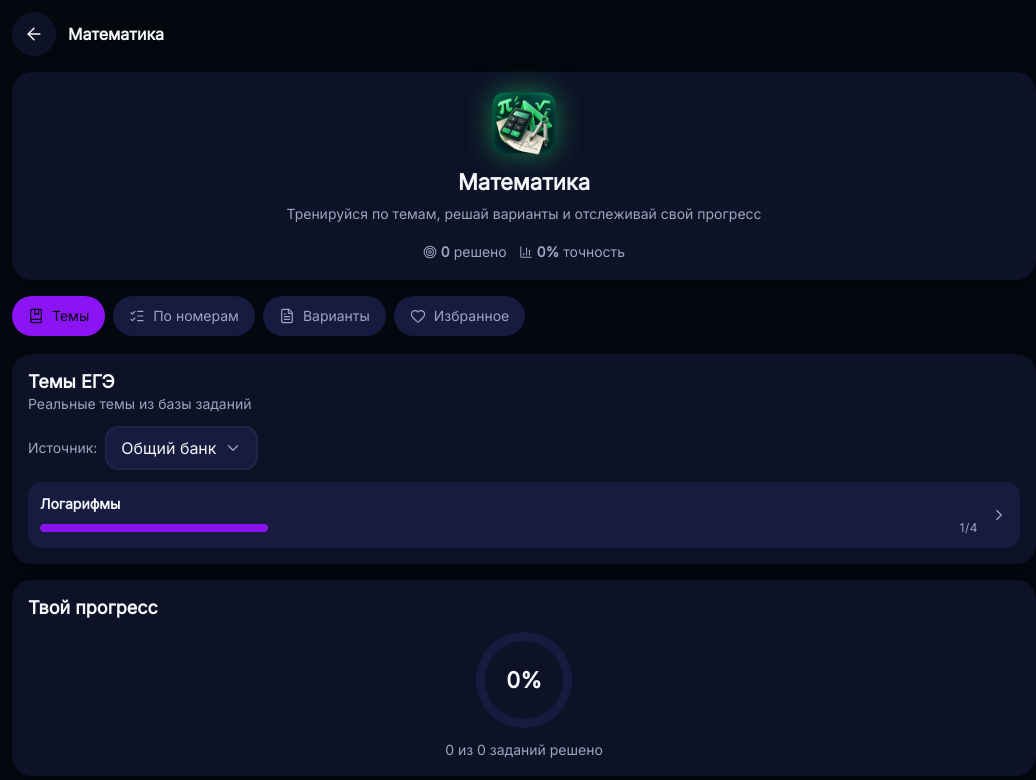
Test case: SubjectMobile › starting a topic training session passes the real topicId and navigates to the task overlay
This screenshot has width=1036, height=780.
What coordinates should you click on to do the following:
click the text "Логарифмы"
I would click on:
 (80, 504)
Its box is [40,495,120,512].
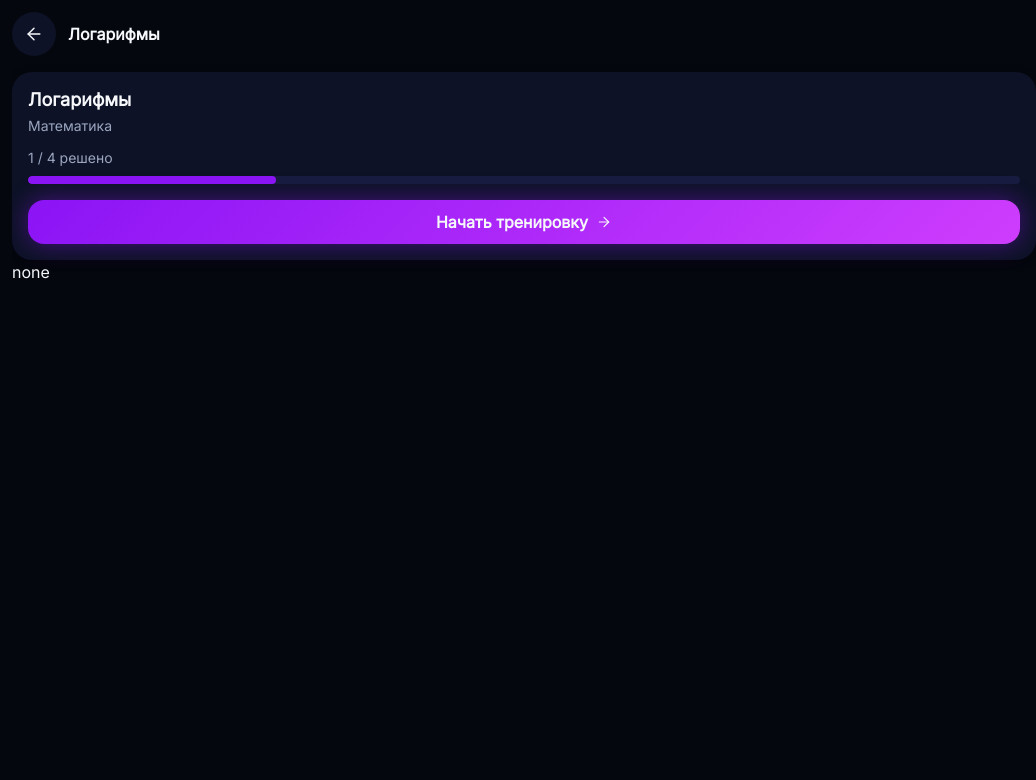
What coordinates should you click on to do the following:
click the button "Начать тренировку"
I would click on:
 (524, 222)
Its box is [28,200,1020,244].
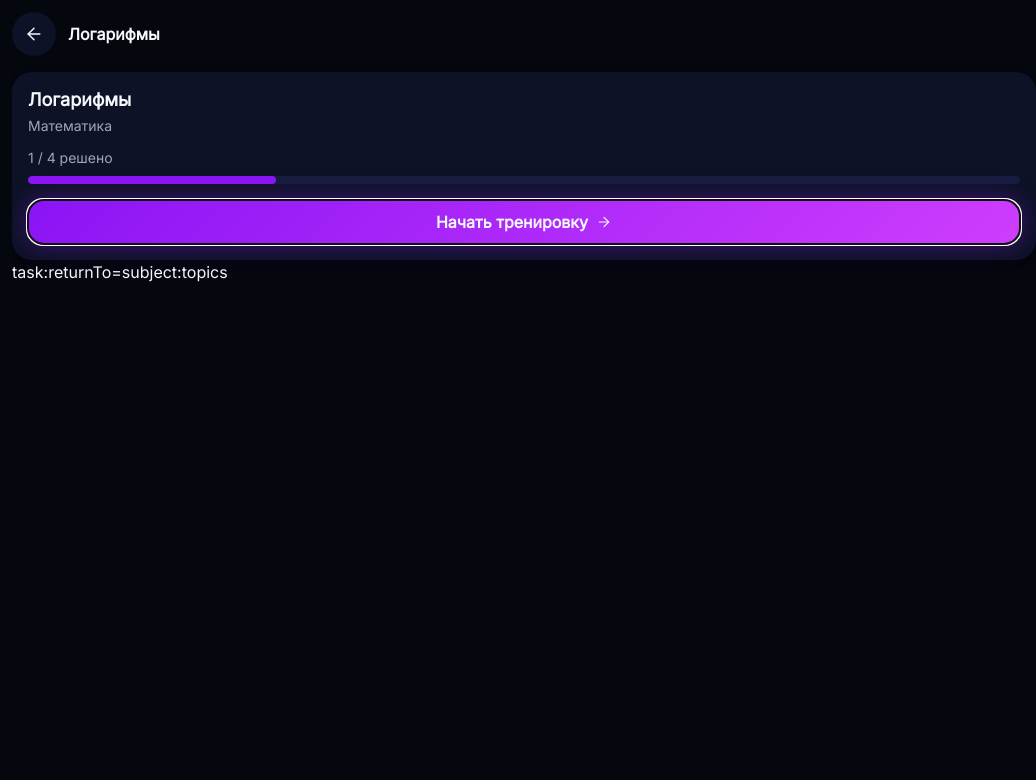
Check: the text with test id "overlay" shows "task", box [12,262,122,282]
